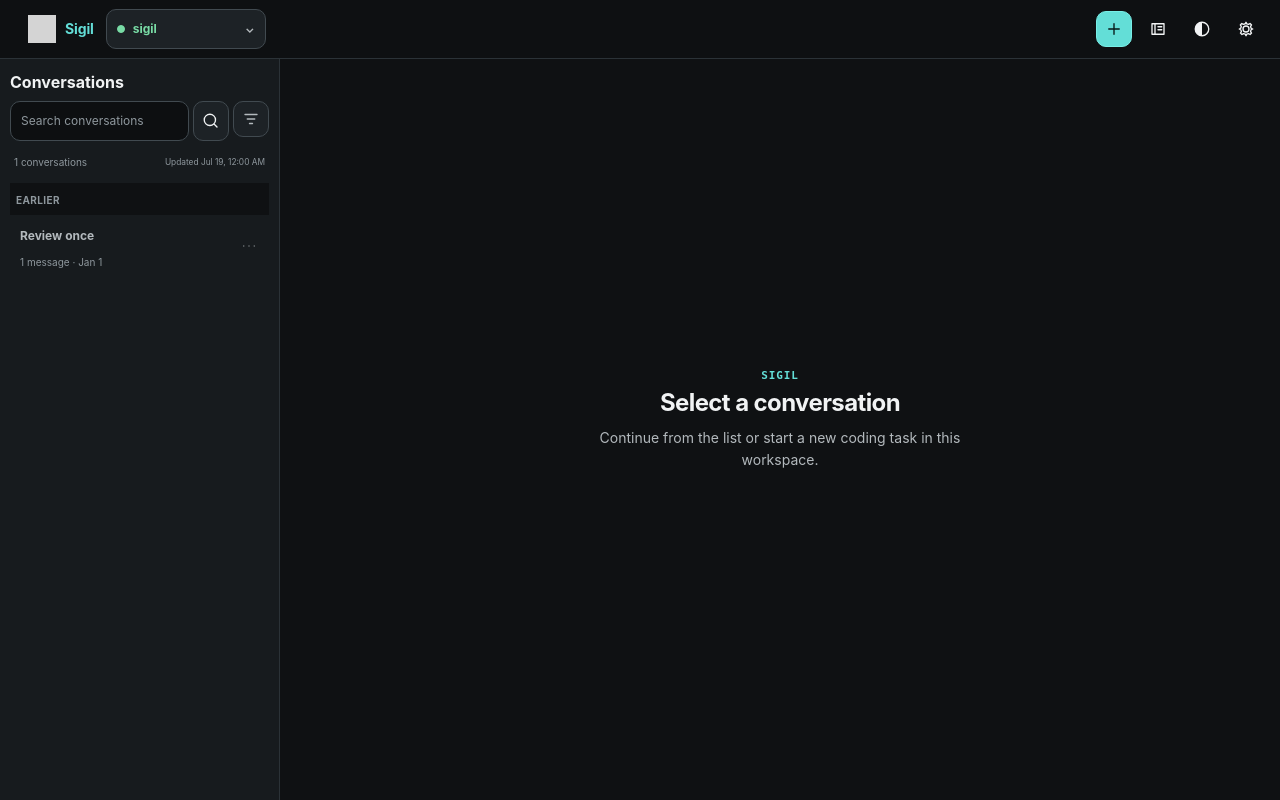
Test: shows one exact pending review instead of its canonical requested stub and notice
The image size is (1280, 800).
Click the button "Review once 1 message · Jan 1" at (124, 249), box [10,217,237,281]
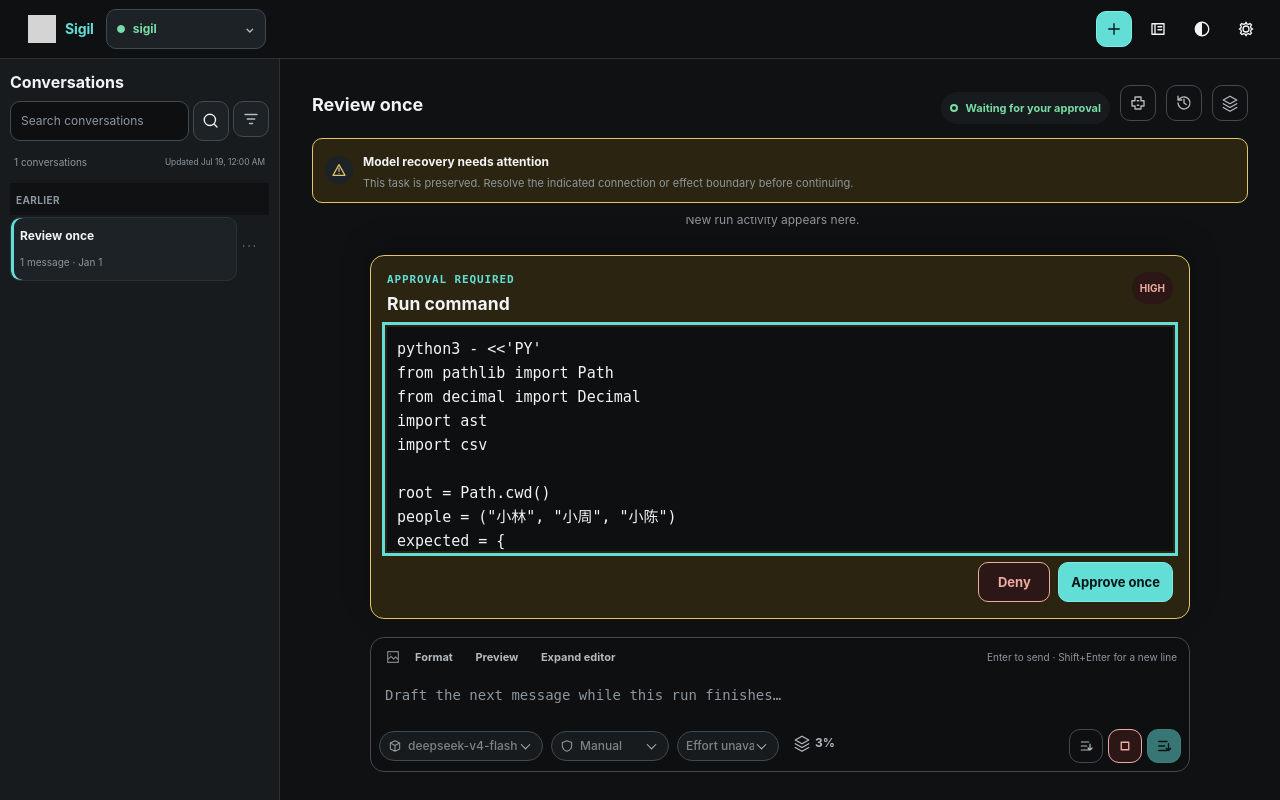
Expected: the heading "Run command" is shown, [387,292,514,316]
Expected: the number of elements named "Requested action" is 1, [387,327,1173,551]
Expected: the button "Approve once" is enabled, [1058,562,1173,602]
